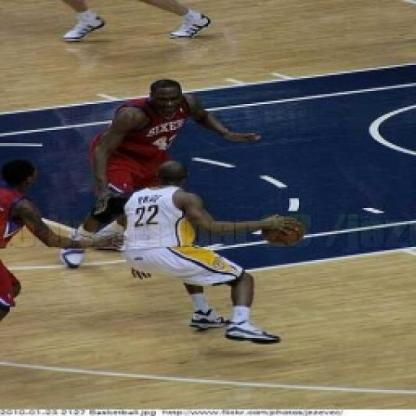basketball: (260, 211, 308, 254)
